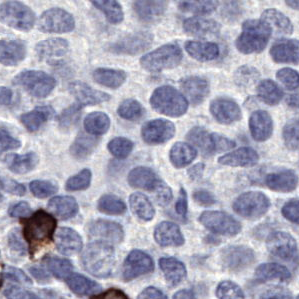Lymphocyte: (20, 208, 58, 257)
